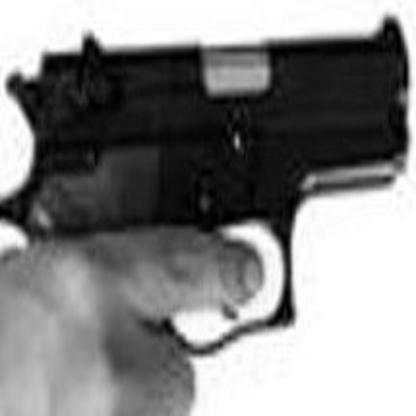weapon: (0, 12, 411, 358)
